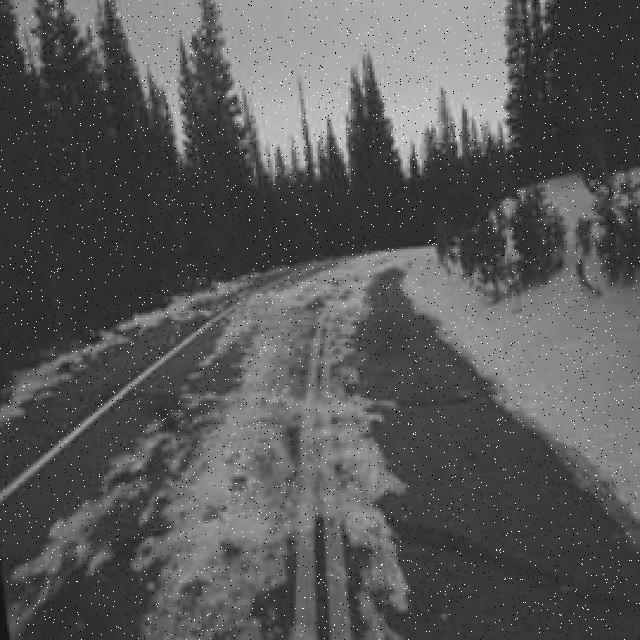clear-road: (0, 259, 640, 640)
